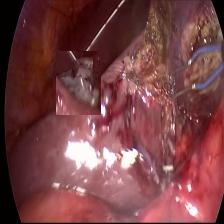Bipolar: (166, 28, 224, 118)
Specimen Bag: (56, 51, 101, 115)
